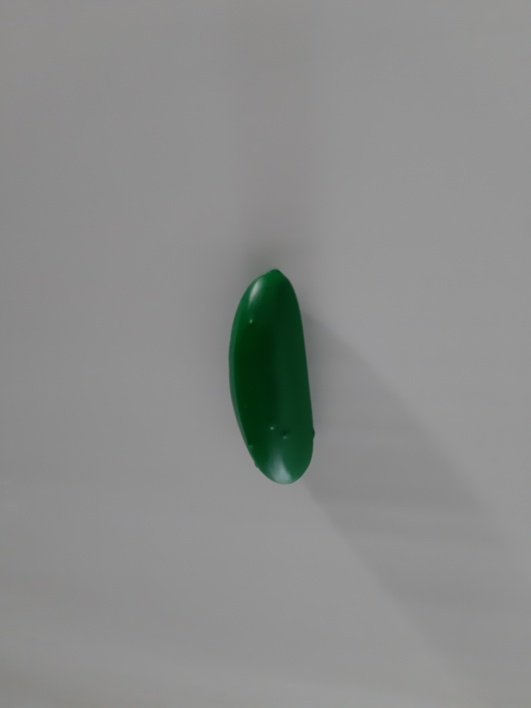cucumber: (196, 252, 353, 507)
